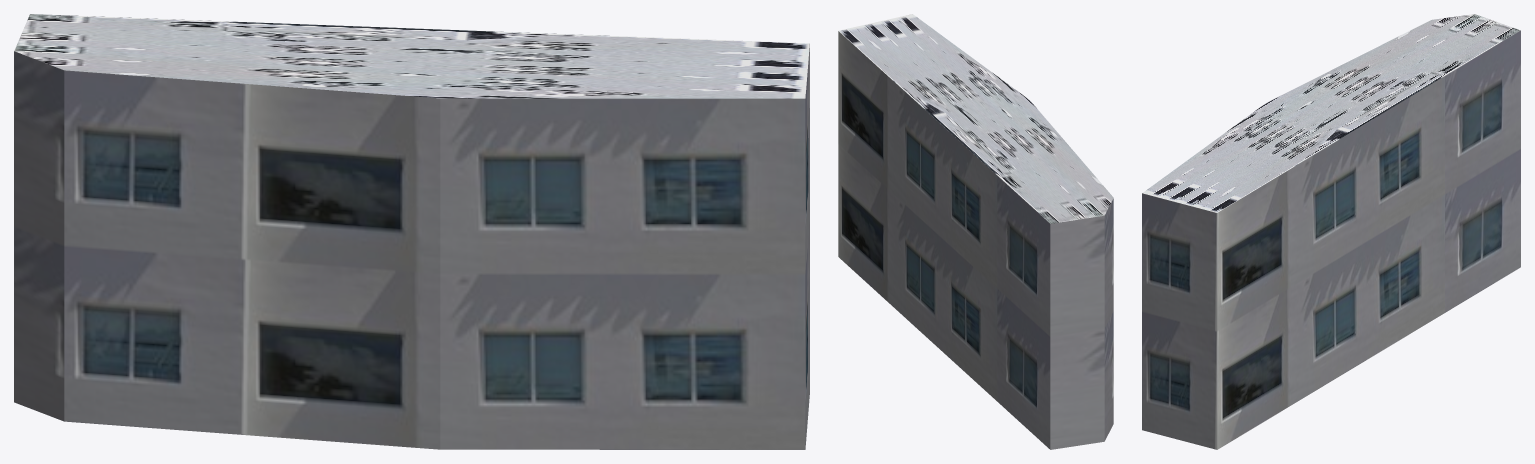
Rendered from ResTex__4625.fbx.
3 views of the same model, side by side, from view 1: azimuth 30°, elevation 25°; view 2: azimuth 150°, elevation 25°; view 3: azimuth 270°, elevation 25° (orthographic). The views are drawn at different scales.
Parts seen in each view (by area): view 1: CityEngineMaterial_10_m, CityEngineMaterial_4_m; view 2: CityEngineMaterial_10_m, CityEngineMaterial_4_m; view 3: CityEngineMaterial_10_m, CityEngineMaterial_4_m.
Boxes of the visible parts, box(x1,y1,x2,y2) form: CityEngineMaterial_10_m: box(14, 44, 809, 449); CityEngineMaterial_4_m: box(14, 14, 809, 98); CityEngineMaterial_10_m: box(838, 31, 1113, 449); CityEngineMaterial_4_m: box(838, 14, 1113, 223); CityEngineMaterial_10_m: box(1142, 30, 1520, 449); CityEngineMaterial_4_m: box(1142, 14, 1520, 212).
Bounding box in the file's own units: 10.81 × 6 × 8.69.
2 materials, 2 textured.
